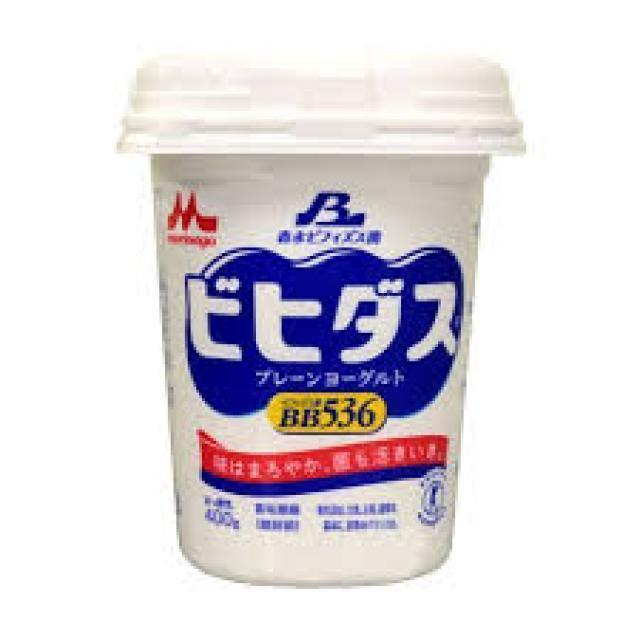Plastic: (118, 63, 530, 579)
